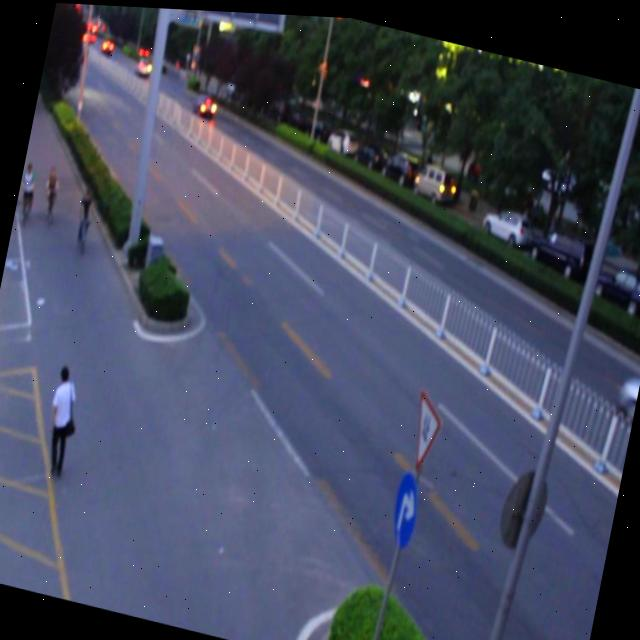car: (611, 358, 640, 417)
